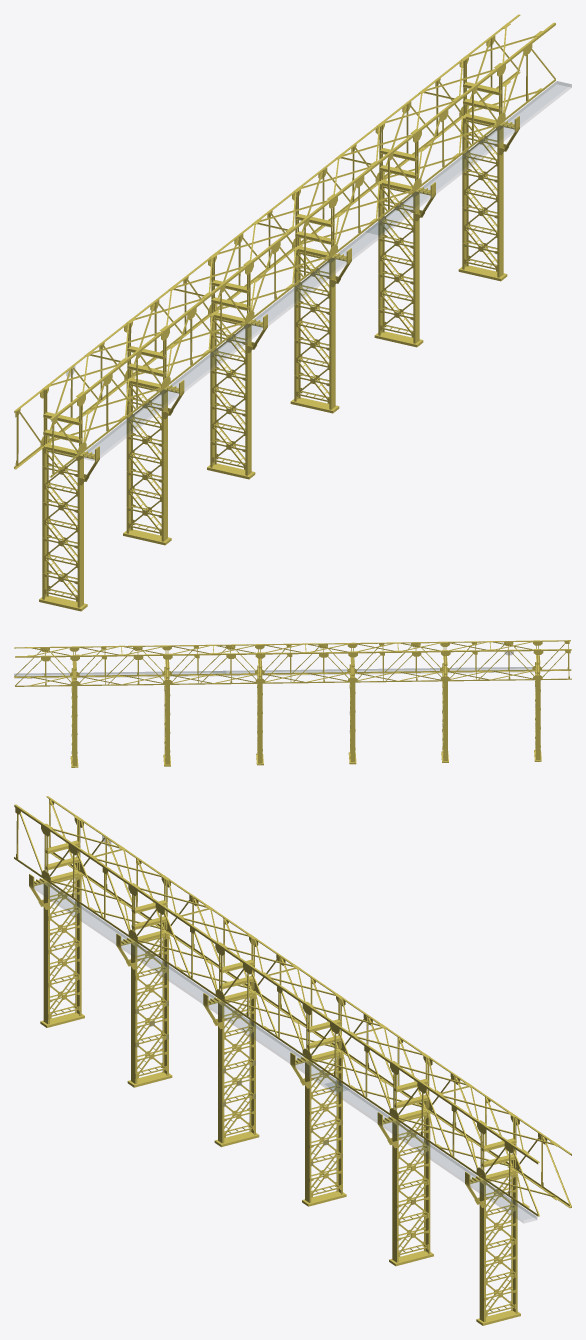
File: overpass_steel.glb
3 renders of one model, top to bottom at view 1: azimuth 30°, elevation 25°; view 2: azimuth 150°, elevation 25°; view 3: azimuth 270°, elevation 25°, orthographic. The views are drawn at different scales.
Visible parts, largest first — view 1: estakada; view 2: estakada; view 3: estakada.
Boxes of the visible parts, x1,y1,x2,y2 form: estakada: (14,14,571,611); estakada: (14,640,571,767); estakada: (14,796,571,1325).
Size of the model in its own units: 11.88 by 2.98 by 7.56.
